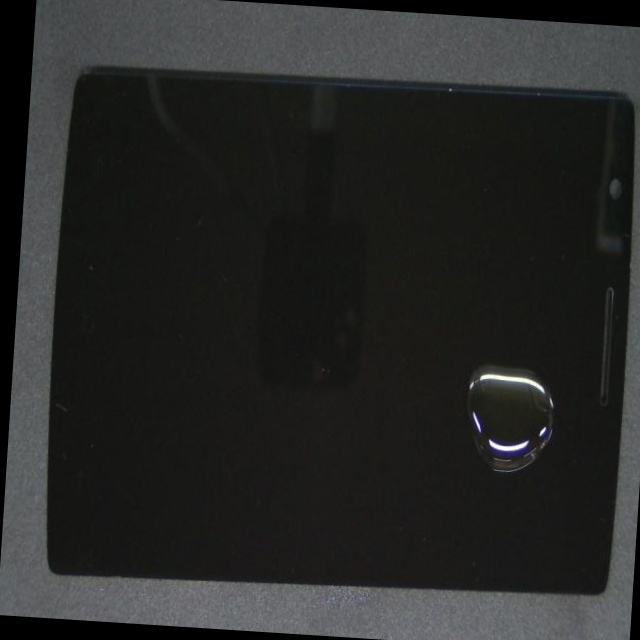oil: (294, 213, 640, 585)
